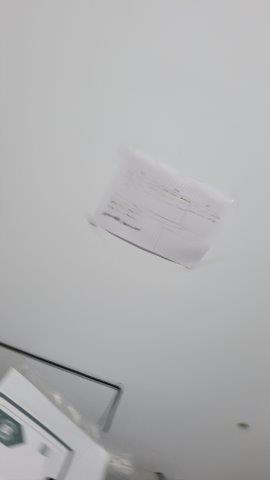kertas: (92, 148, 232, 275), (1, 370, 110, 480)
